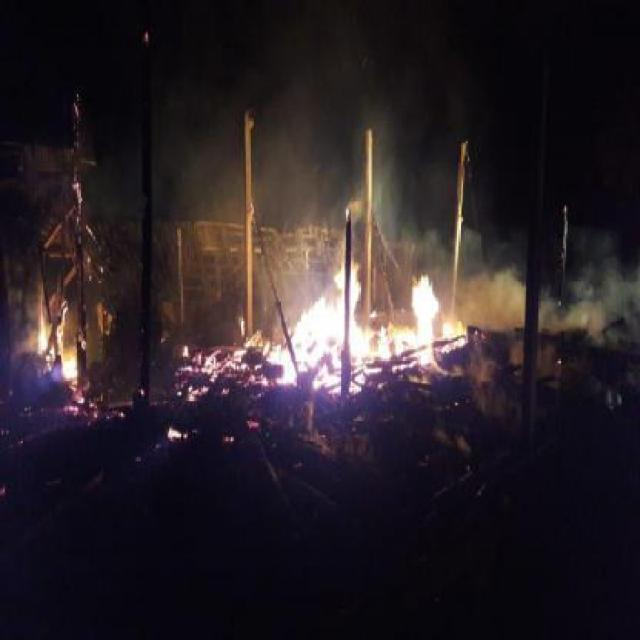Fire: (287, 306, 362, 396), (178, 342, 270, 406), (412, 277, 440, 371), (362, 327, 418, 361), (331, 266, 364, 314), (62, 351, 78, 387), (36, 326, 50, 354), (167, 426, 186, 442)
Smoke: (466, 266, 639, 337)
